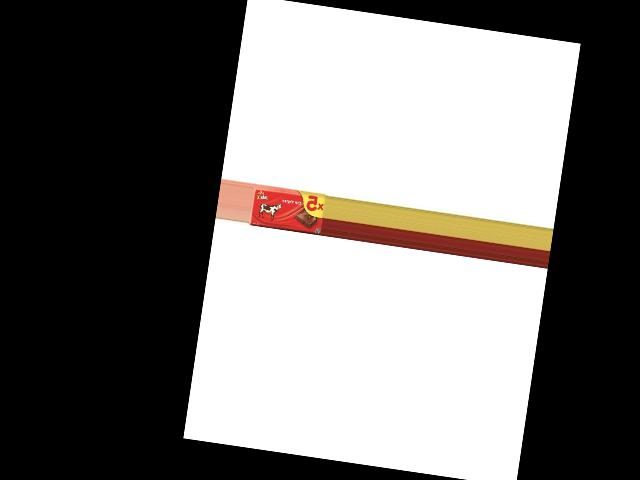chocolate: (247, 182, 326, 235)
